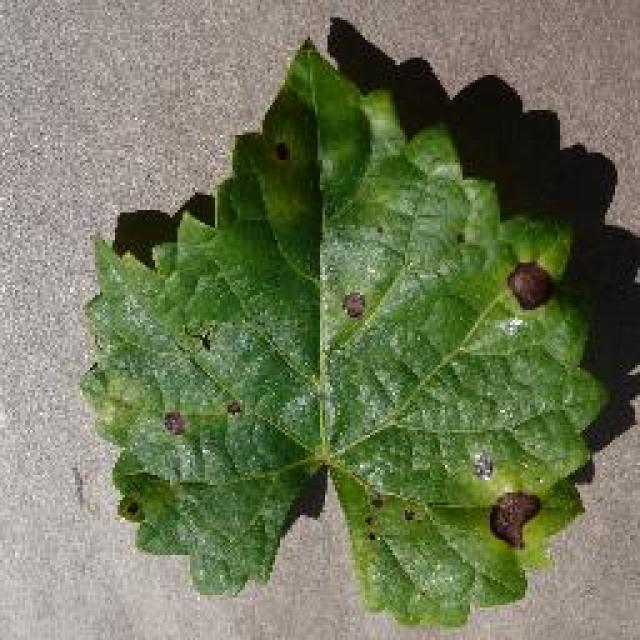Grape___Black_rot: (75, 30, 615, 634)
